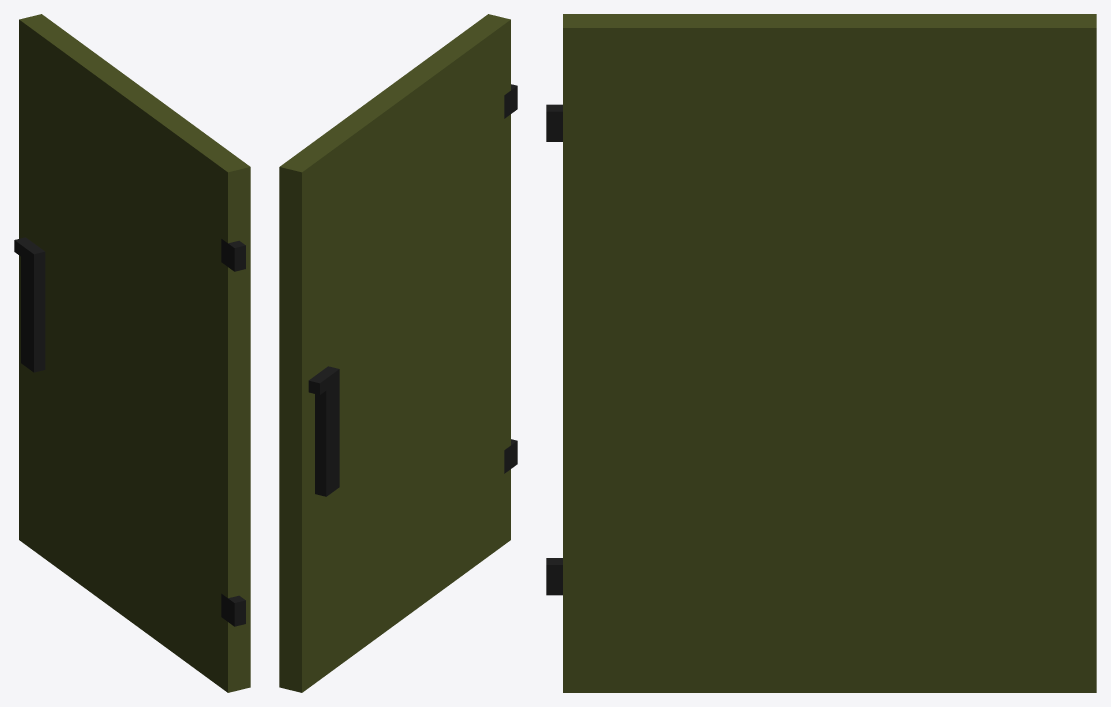
The model's file is military_ambulance_rear_door.glb.
3 renders of one model, left to right at view 1: azimuth 30°, elevation 25°; view 2: azimuth 150°, elevation 25°; view 3: azimuth 270°, elevation 25°, orthographic. The views are drawn at different scales.
Parts seen in each view (by area): view 1: body:compound; view 2: body:compound; view 3: body:compound.
Boxes of the visible parts, box(x1,y1,x2,y2) form: body:compound: box(14, 14, 250, 692); body:compound: box(279, 14, 517, 692); body:compound: box(546, 14, 1096, 692).
Size of the model in its own units: 0.0938 by 1.38 by 1.03.
